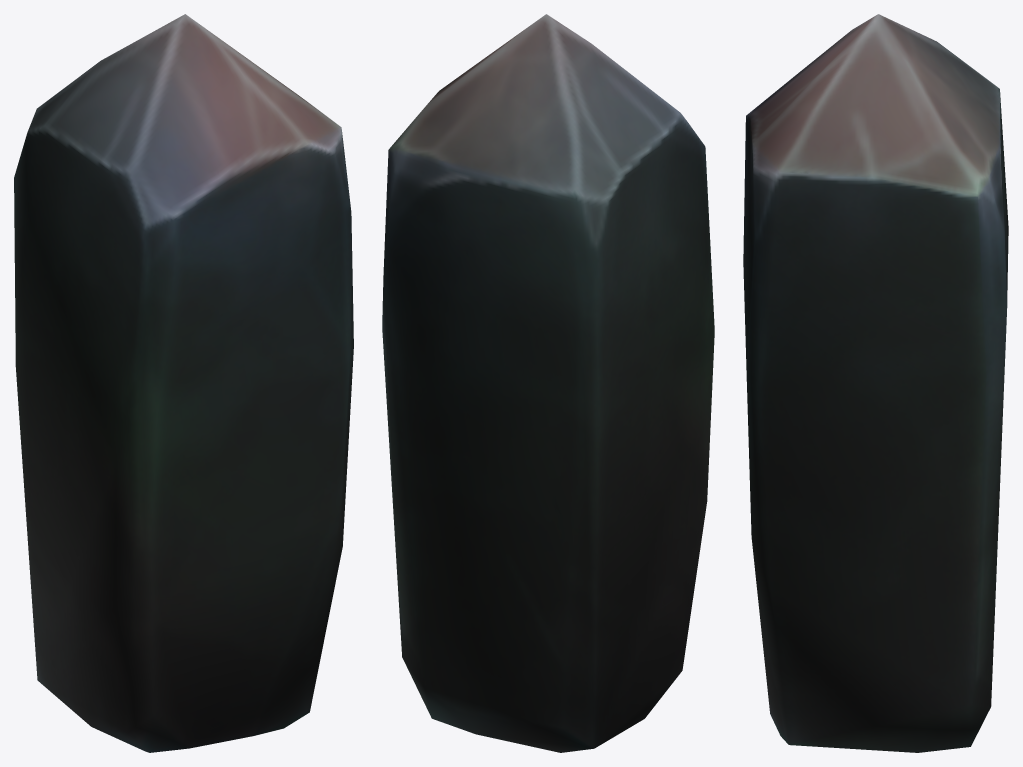
The model's file is SM_Gem_BlackQuartz_004.fbx.
3 renders of one model, left to right at view 1: azimuth 30°, elevation 25°; view 2: azimuth 150°, elevation 25°; view 3: azimuth 270°, elevation 25°, orthographic.
Parts seen in each view (by area): view 1: SM_Gem_BlackQuartz_004; view 2: SM_Gem_BlackQuartz_004; view 3: SM_Gem_BlackQuartz_004.
Part boxes in pixels (bbox=[...]): SM_Gem_BlackQuartz_004: bbox=[14, 14, 353, 752]; SM_Gem_BlackQuartz_004: bbox=[382, 14, 714, 752]; SM_Gem_BlackQuartz_004: bbox=[743, 14, 1008, 752].
Size of the model in its own units: 13.59 by 39.62 by 13.58.
